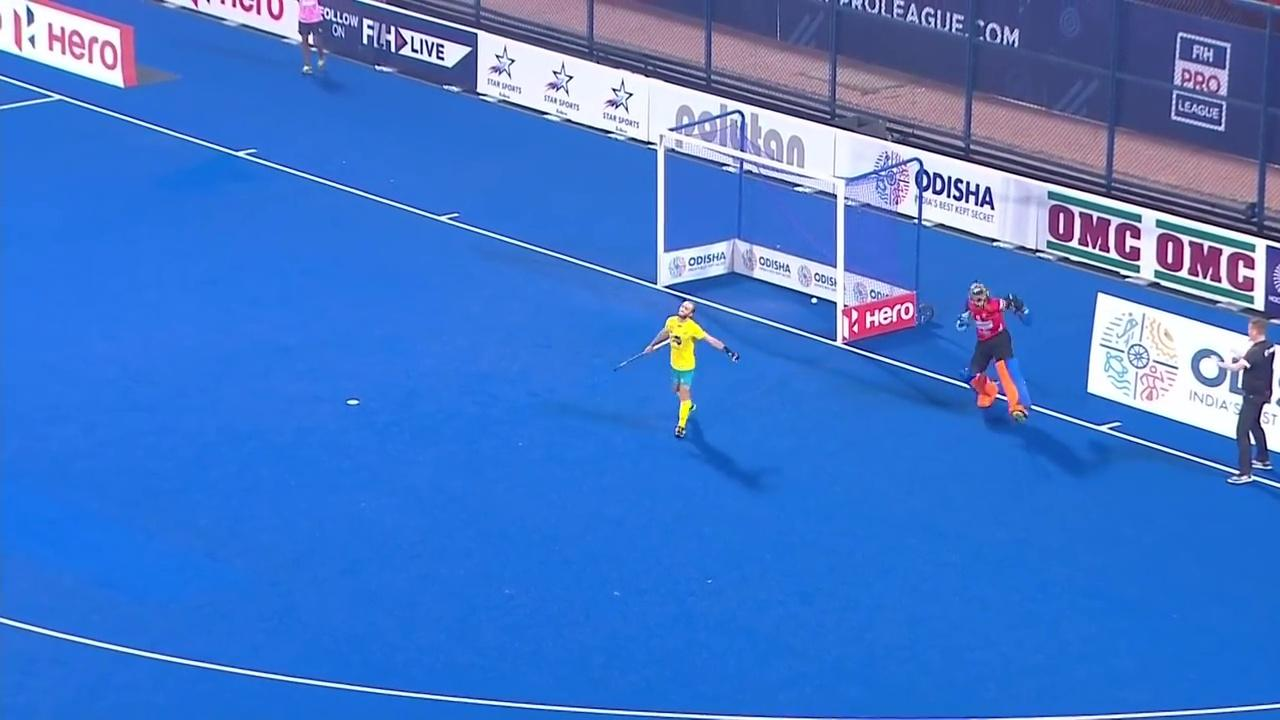ball: (810, 296, 818, 304)
